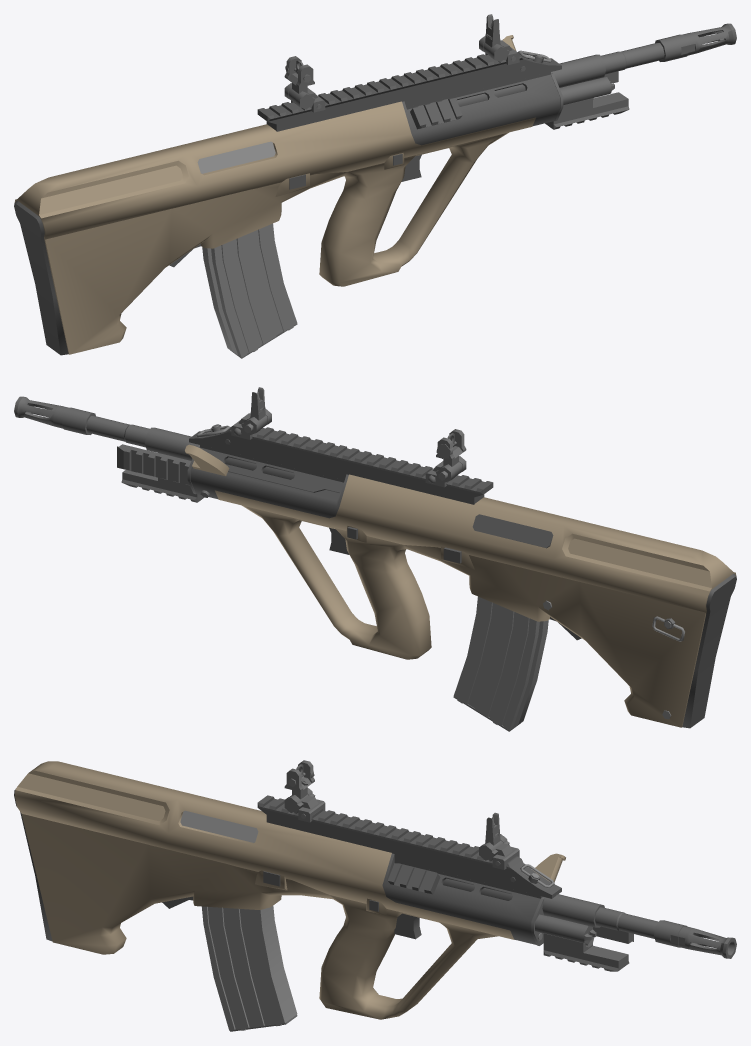
File: AUG A3.fbx
The picture shows the model from 3 angles, top to bottom: view 1: azimuth 30°, elevation 25°; view 2: azimuth 150°, elevation 25°; view 3: azimuth 330°, elevation 25°; orthographic projection.
Parts seen in each view (by area): view 1: Cylinder.006, STANAG, SIG RearSight, Bolt, SIG FrontSight; view 2: Cylinder.006, STANAG, SIG RearSight, SIG FrontSight, BoltCarry; view 3: Cylinder.006, STANAG, SIG RearSight, Bolt, SIG FrontSight, Trigger, BoltCarry.
Boxes of the visible parts, x1,y1,x2,y2 form: Cylinder.006: (14, 23, 736, 355); STANAG: (202, 223, 297, 358); SIG RearSight: (284, 56, 325, 112); Bolt: (197, 141, 275, 173); SIG FrontSight: (479, 14, 519, 64); Cylinder.006: (14, 396, 736, 728); STANAG: (453, 596, 548, 731); SIG RearSight: (425, 429, 466, 487); SIG FrontSight: (231, 387, 271, 439); BoltCarry: (185, 444, 229, 476); Cylinder.006: (14, 761, 736, 1019); STANAG: (201, 906, 297, 1031); SIG RearSight: (284, 760, 325, 822); Bolt: (180, 810, 258, 842); SIG FrontSight: (479, 812, 519, 869); Trigger: (394, 913, 421, 939); BoltCarry: (533, 853, 565, 882).
Size of the model in its own units: 1560 by 586 by 170.
